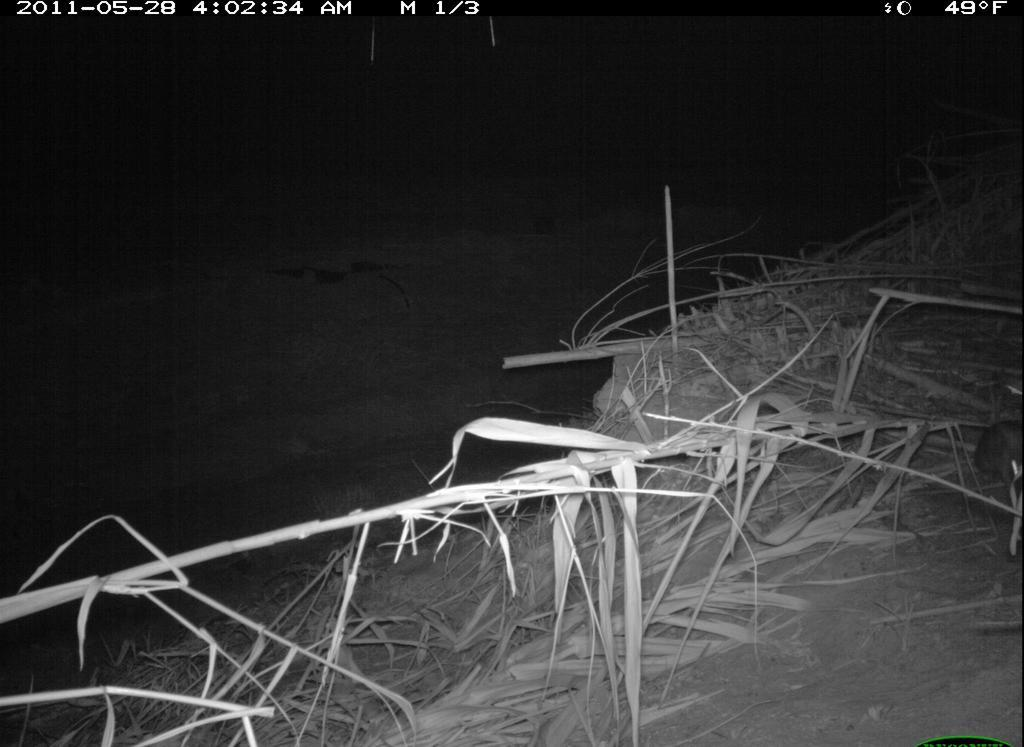rabbit: (966, 378, 1022, 502)
